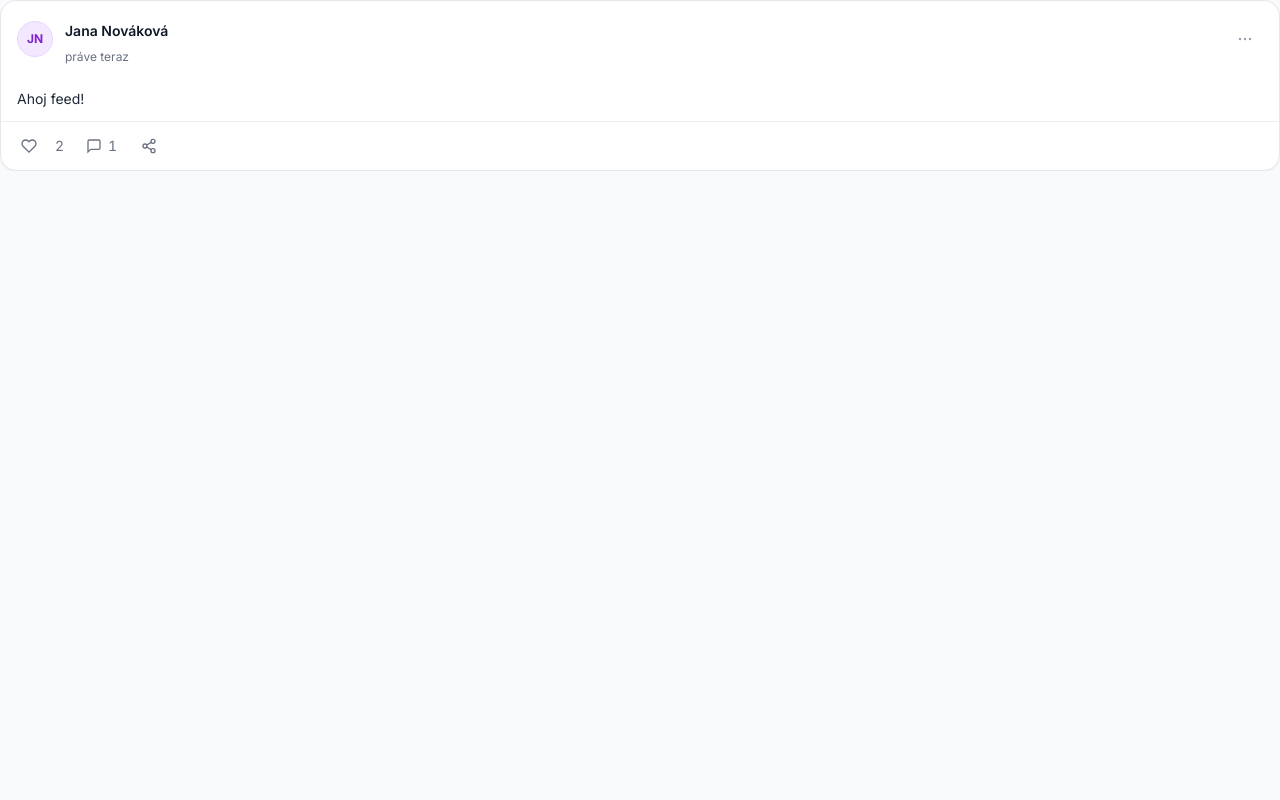
Test: FeedPostCard – komentáre › expands inline, lists comments and adds a new one
Click the button with test id "feed-comments-button": (102, 146) [78, 128, 125, 164]
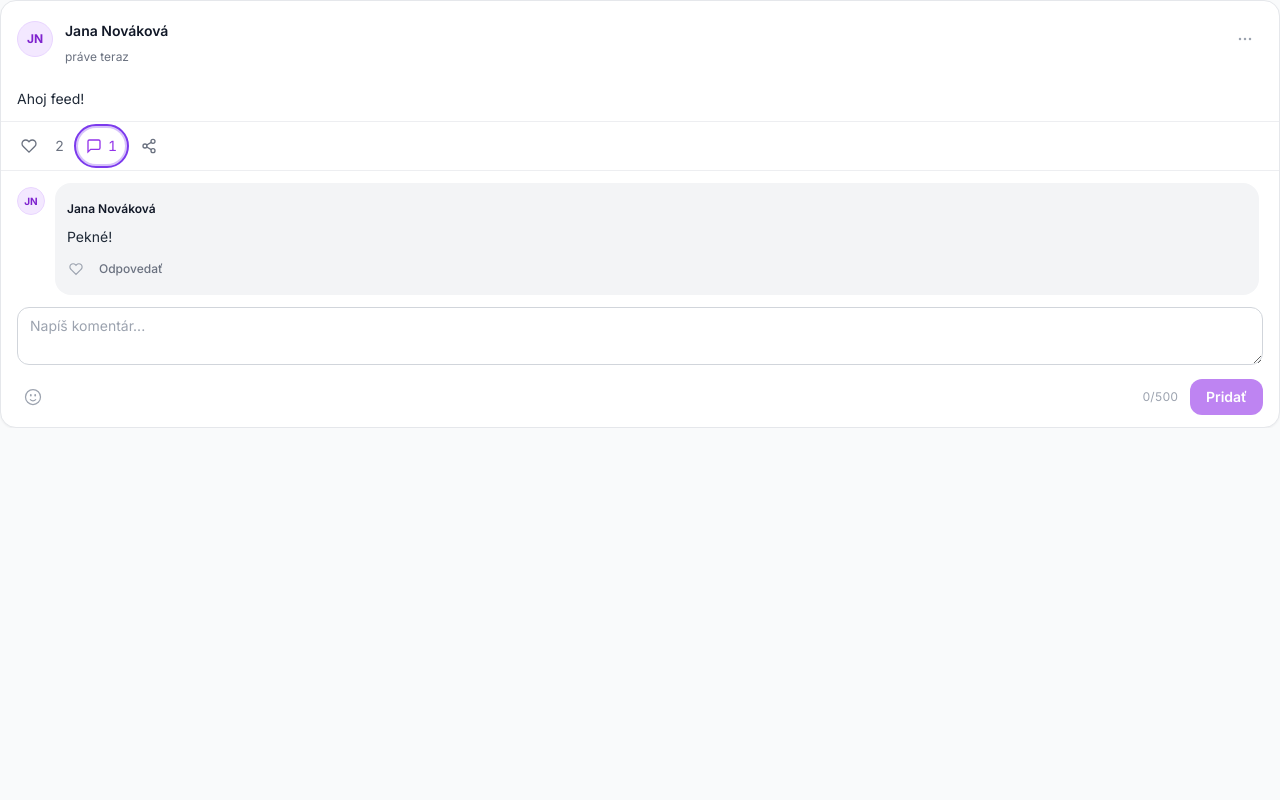
Result: the text "Pekné!" is shown at [67, 228, 112, 245]
In the text box: (640, 336) [17, 307, 1263, 365], type "Môj komentár"
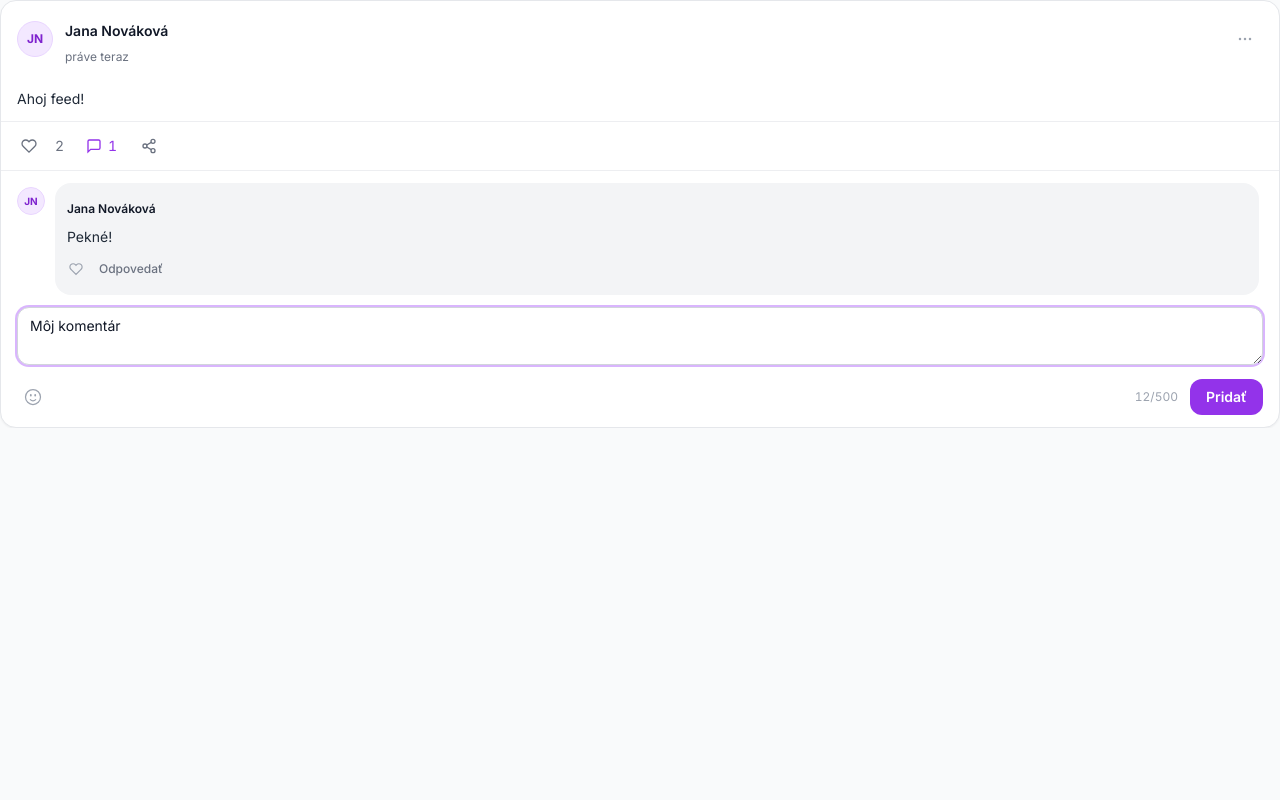
Click the button "Pridať": (1226, 397) [1190, 379, 1263, 415]
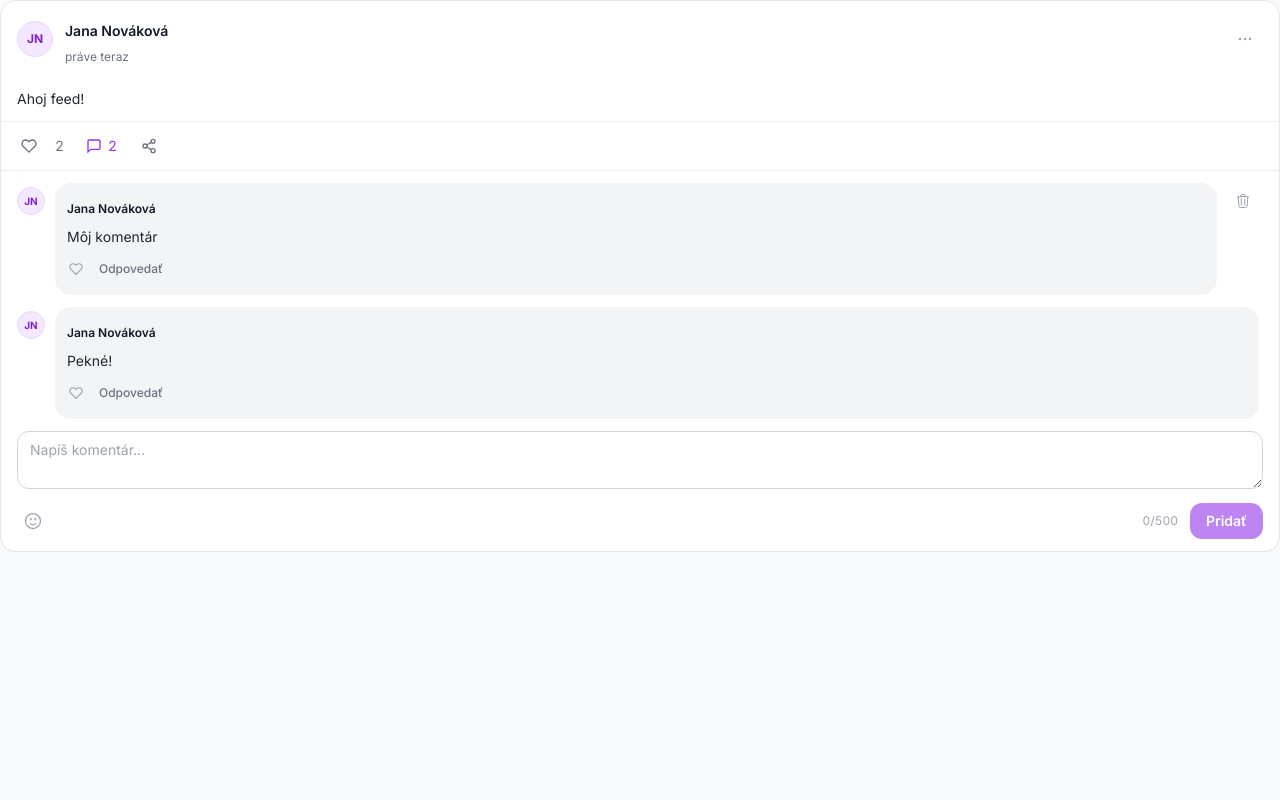
Result: the text "Môj komentár" is shown at [67, 228, 158, 245]
